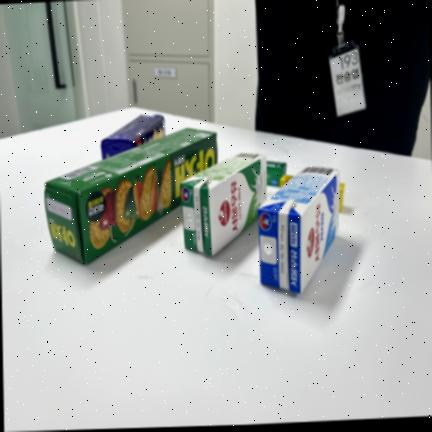cracker_ace: (100, 114, 165, 159)
cracker_vege: (44, 128, 219, 266)
gum_green: (266, 160, 287, 188)
milk_blue: (258, 164, 339, 295)
milk_green: (182, 151, 269, 257)
